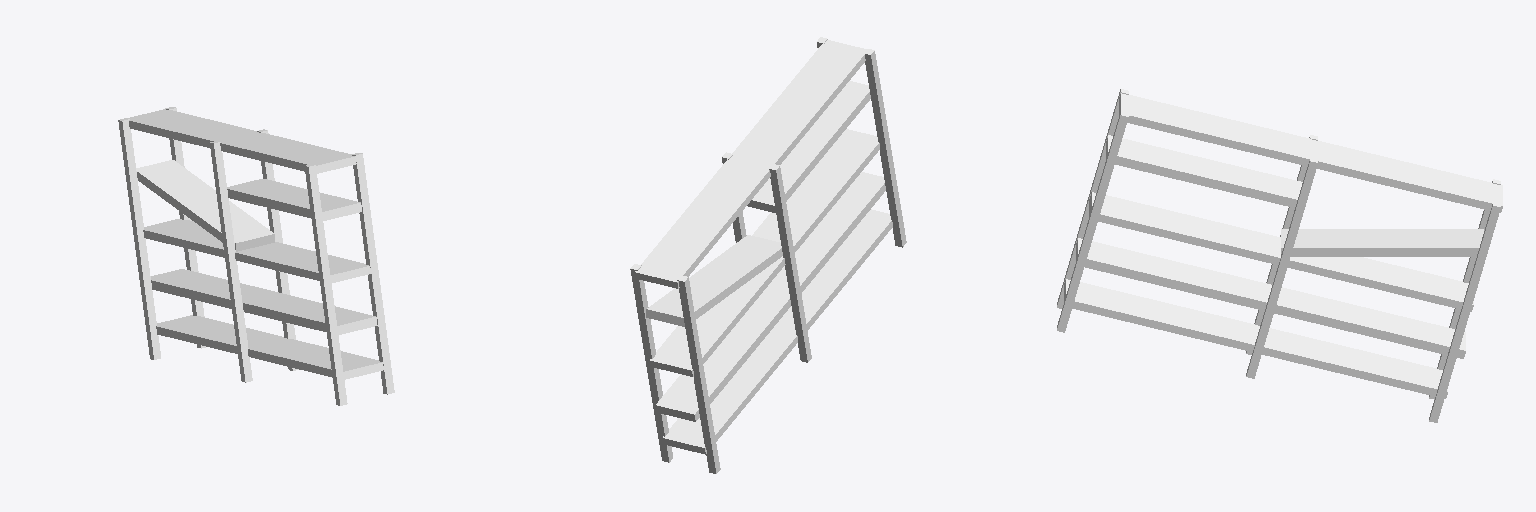
Rendered from shelves.obj.
3 views of the same model, side by side, from view 1: azimuth 30°, elevation 25°; view 2: azimuth 150°, elevation 25°; view 3: azimuth 270°, elevation 25° (orthographic).
Parts seen in each view (by area): view 1: shelves; view 2: shelves; view 3: shelves.
Part boxes in pixels (x1,y1,x2,y2): shelves: (118, 107, 394, 405); shelves: (630, 37, 906, 473); shelves: (1057, 89, 1502, 422).
Size of the model in its own units: 1.24 by 6.69 by 8.79.